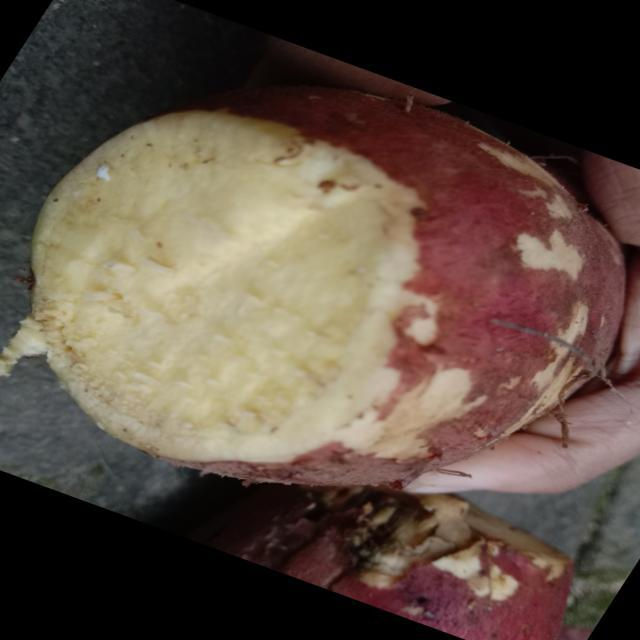Healthy Sweet Potato: (3, 111, 422, 462)
